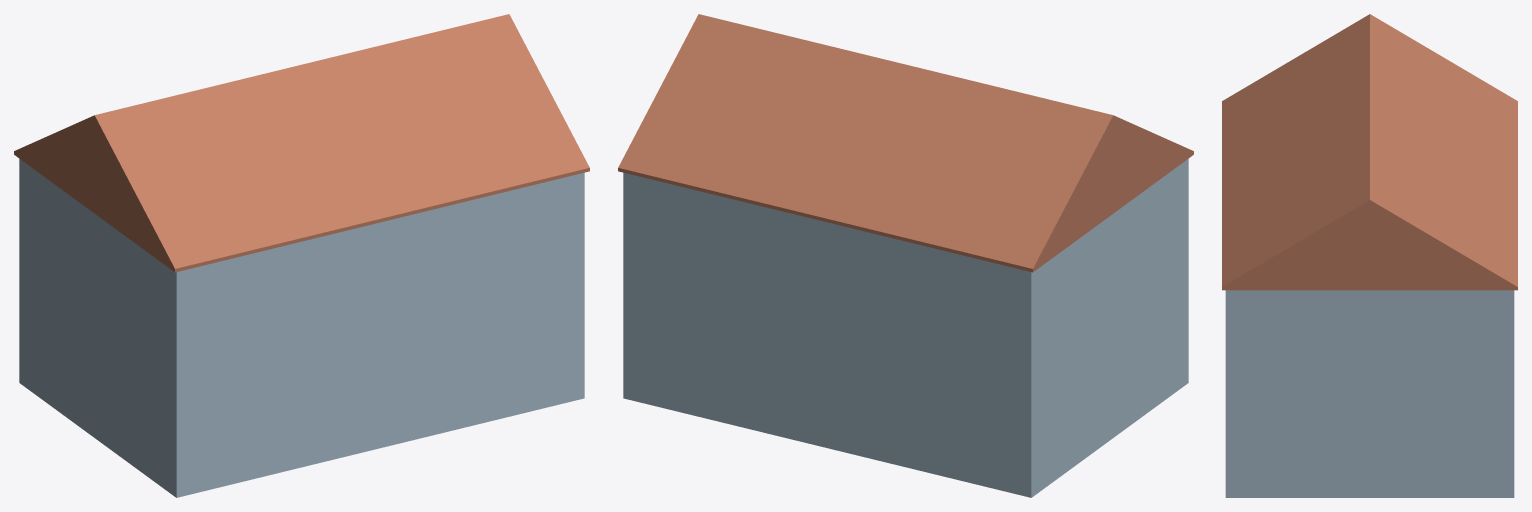
The model's file is building.glb.
3 renders of one model, left to right at view 1: azimuth 30°, elevation 25°; view 2: azimuth 150°, elevation 25°; view 3: azimuth 270°, elevation 25°, orthographic. The views are drawn at different scales.
Visible parts, largest first — view 1: A02; view 2: A02; view 3: A02.
Boxes of the visible parts, x1,y1,x2,y2 form: A02: [14, 14, 589, 497]; A02: [618, 14, 1193, 497]; A02: [1222, 14, 1517, 497].
Size of the model in its own units: 18.3 by 13.75 by 12.3.
